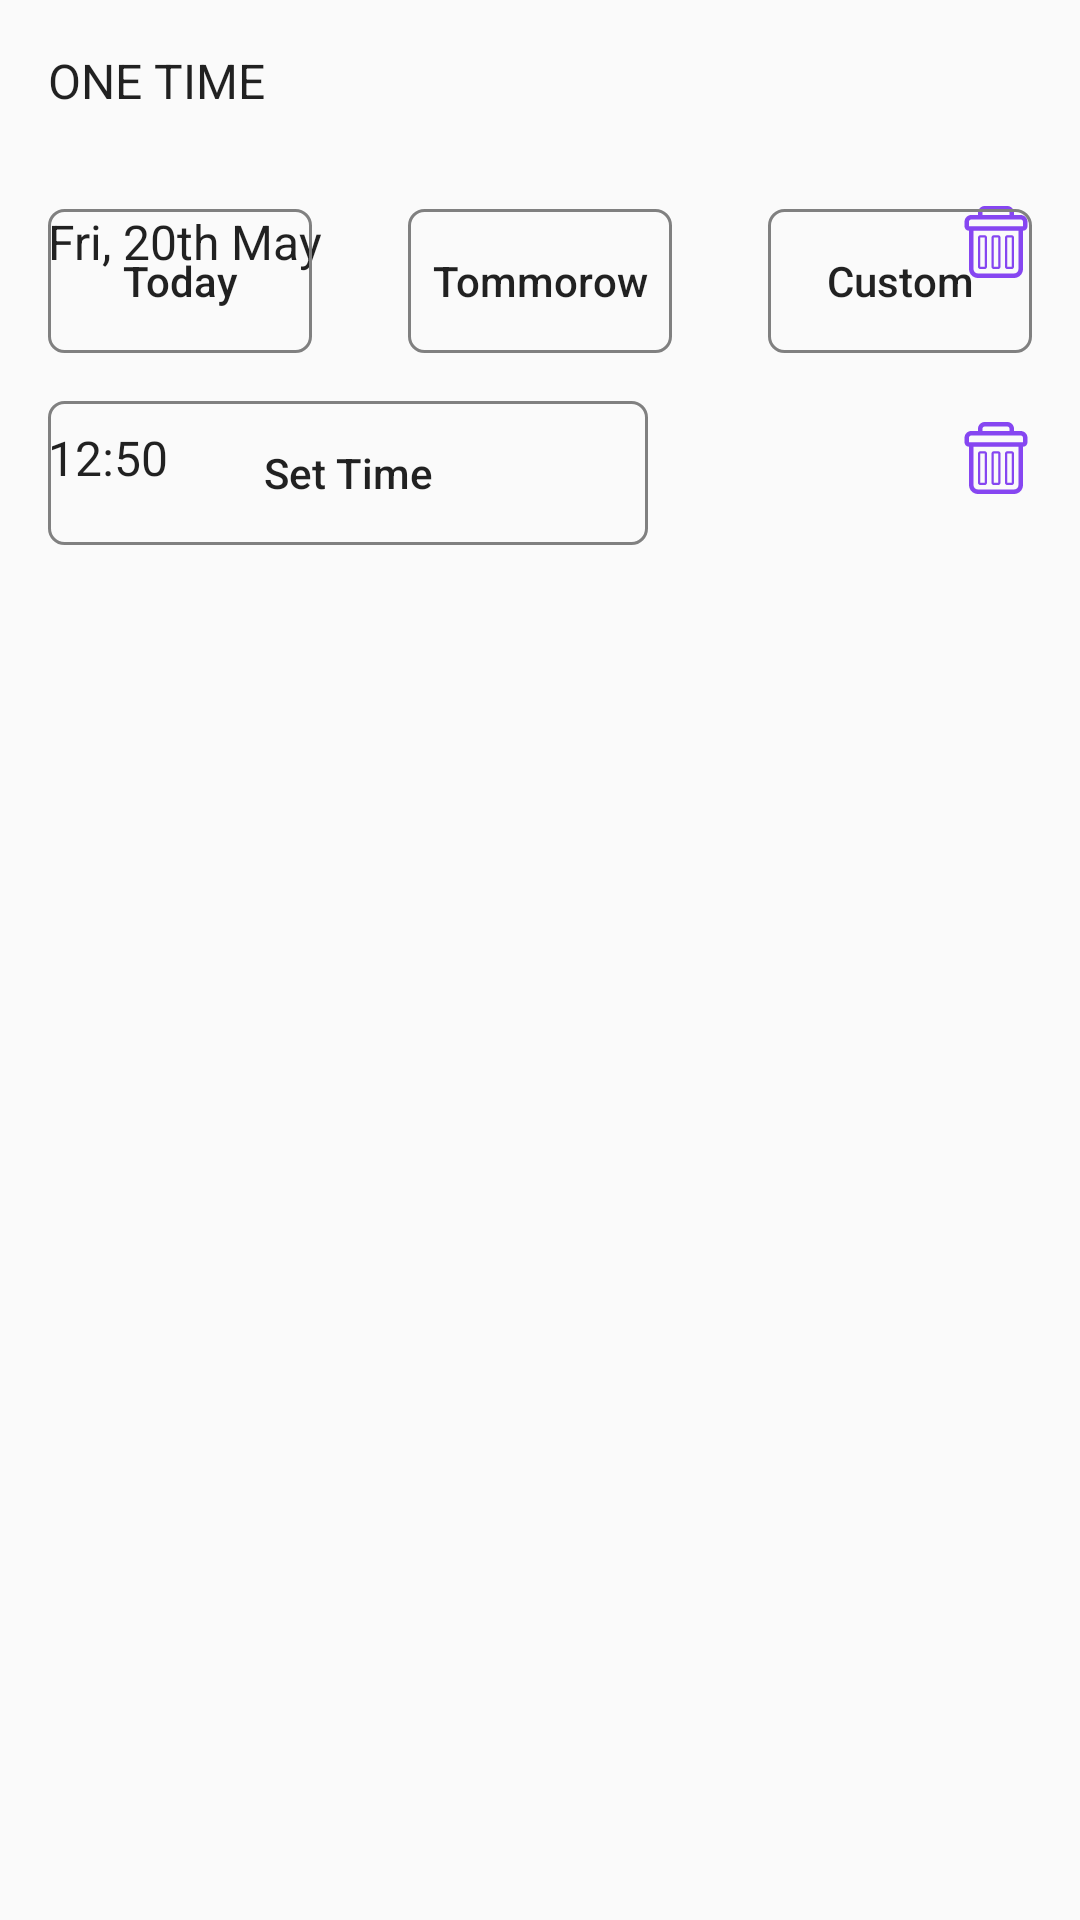

Point at icon controls on the screen. Image size 1080w x 1920h, points as (x=x, y=y).
dustbin: (x=996, y=242), (x=996, y=458)
